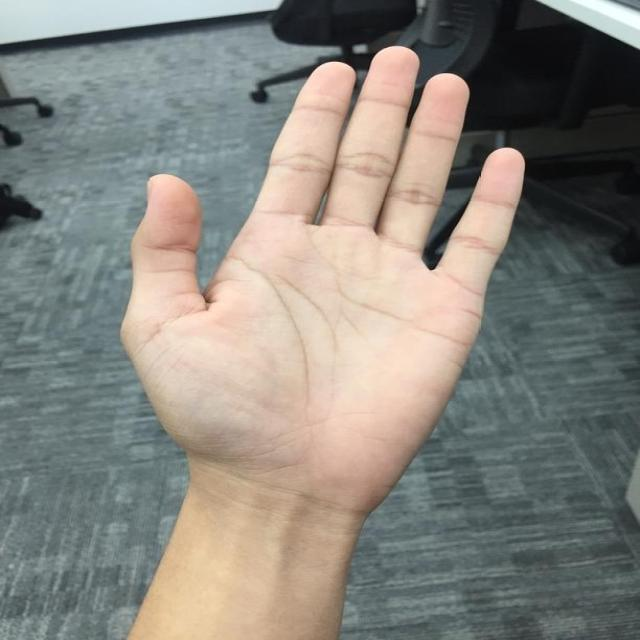hand: (117, 44, 525, 509)
